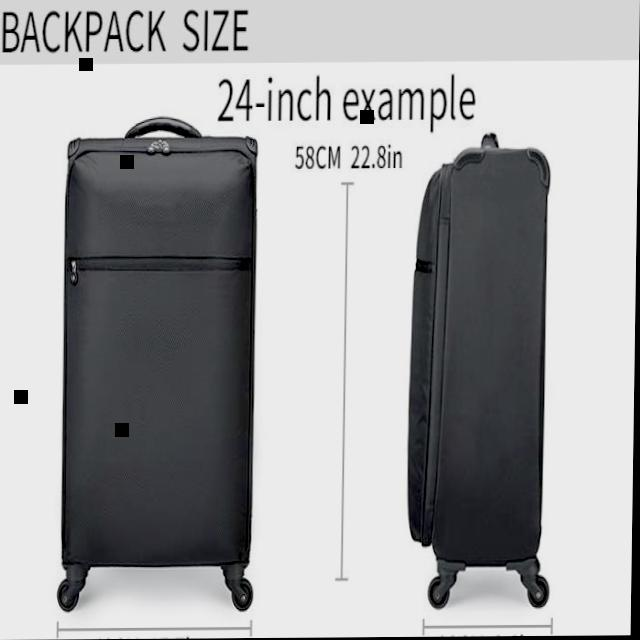luggage: (53, 113, 270, 577), (403, 129, 556, 580)
